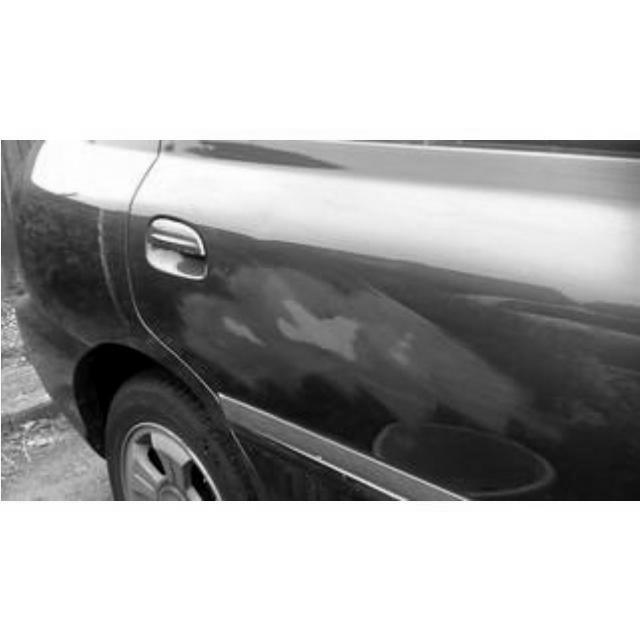doorouter-dent: (167, 140, 498, 477)
